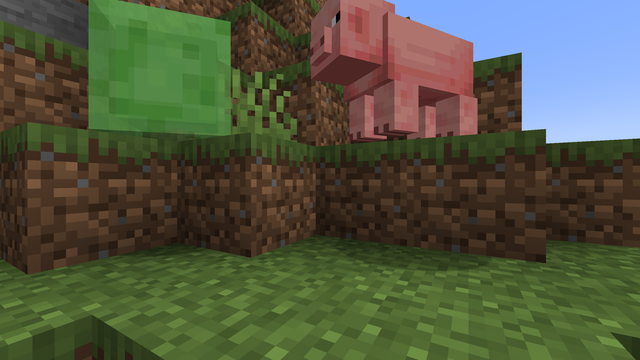cochons: (343, 7, 462, 144)
slimes: (88, 3, 253, 143)
